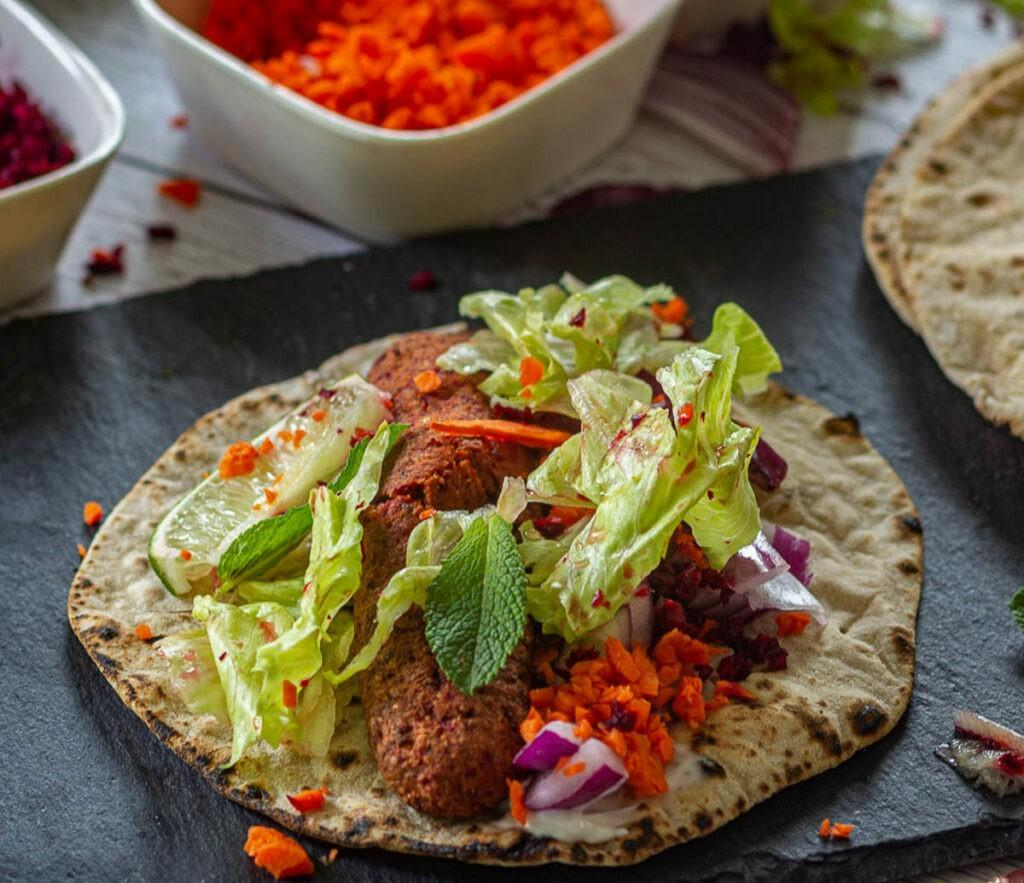Kebab: (352, 332, 567, 824)
